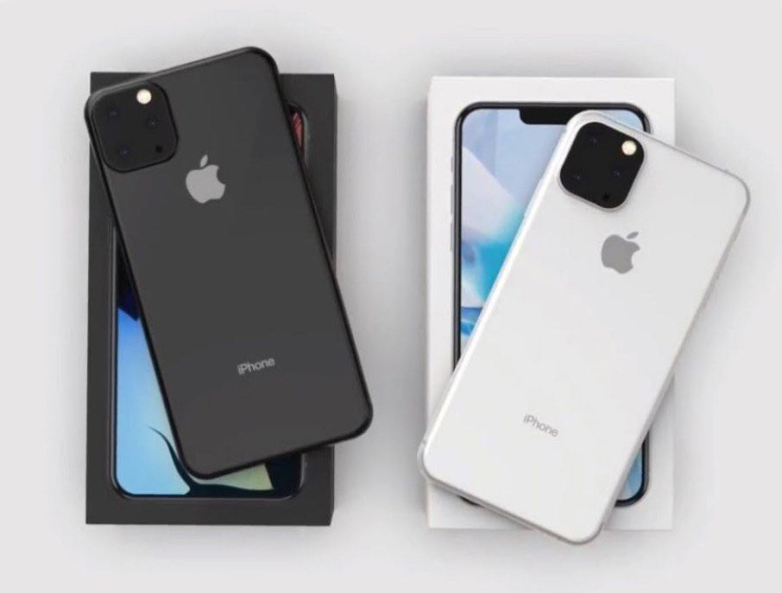apple: (592, 223, 654, 288), (176, 152, 237, 208)
